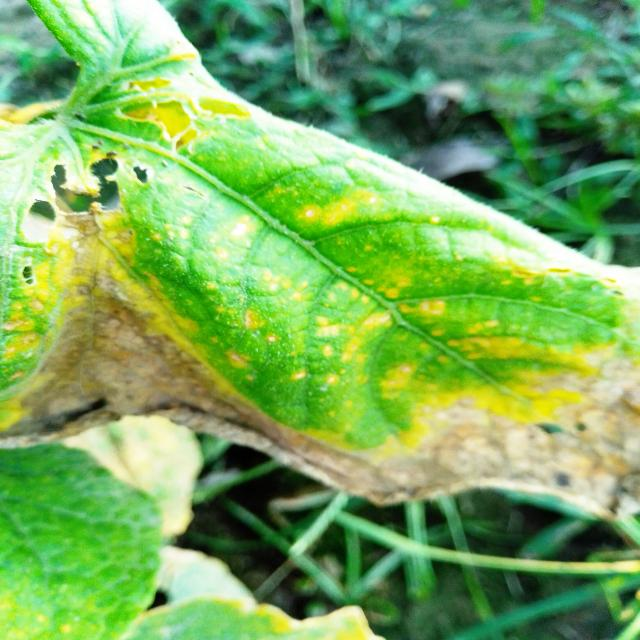Gummy-Stem-Blight: (0, 248, 640, 524)
